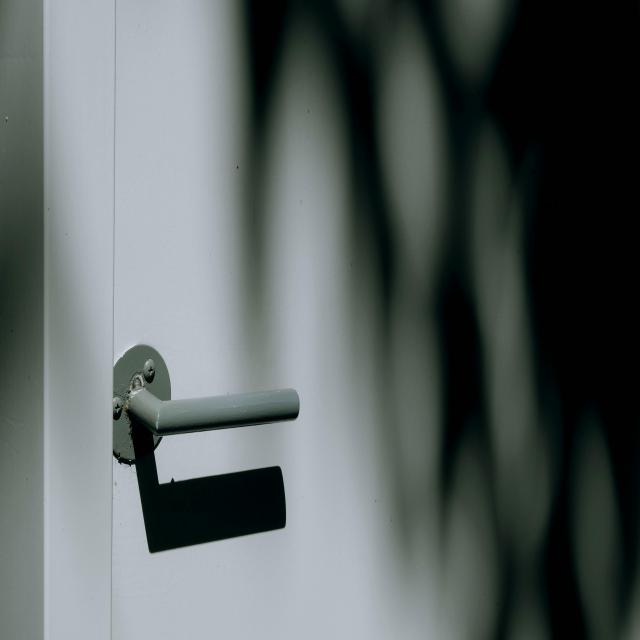door-handle: (112, 345, 300, 463)
